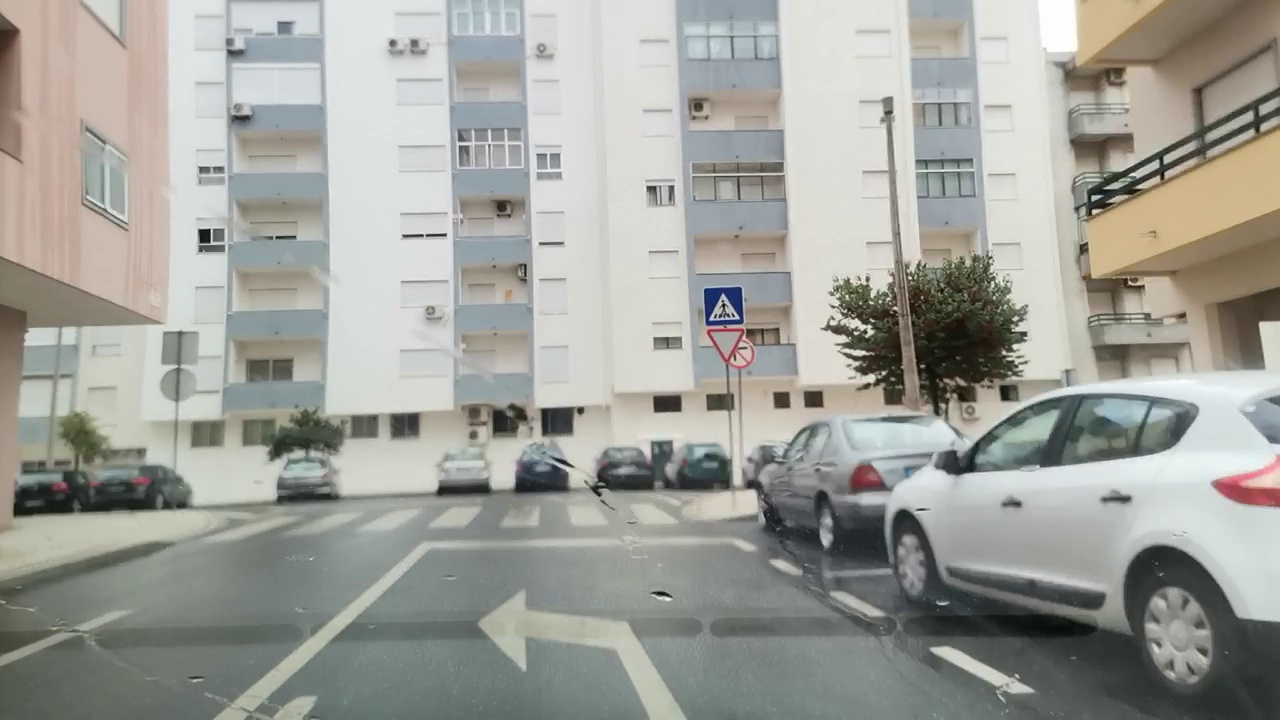Stairs: (189, 503, 679, 539)
